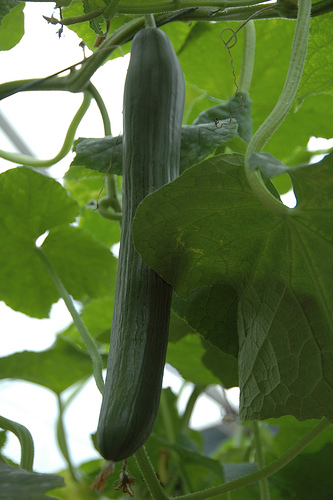cucumber: (93, 26, 186, 461)
